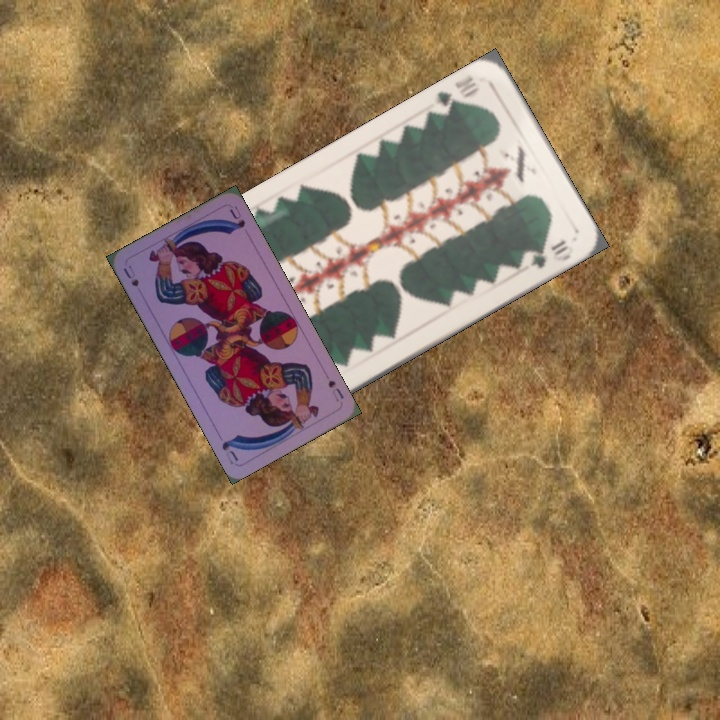G10: (431, 71, 482, 118)
SU: (119, 261, 141, 289), (324, 376, 346, 404)
